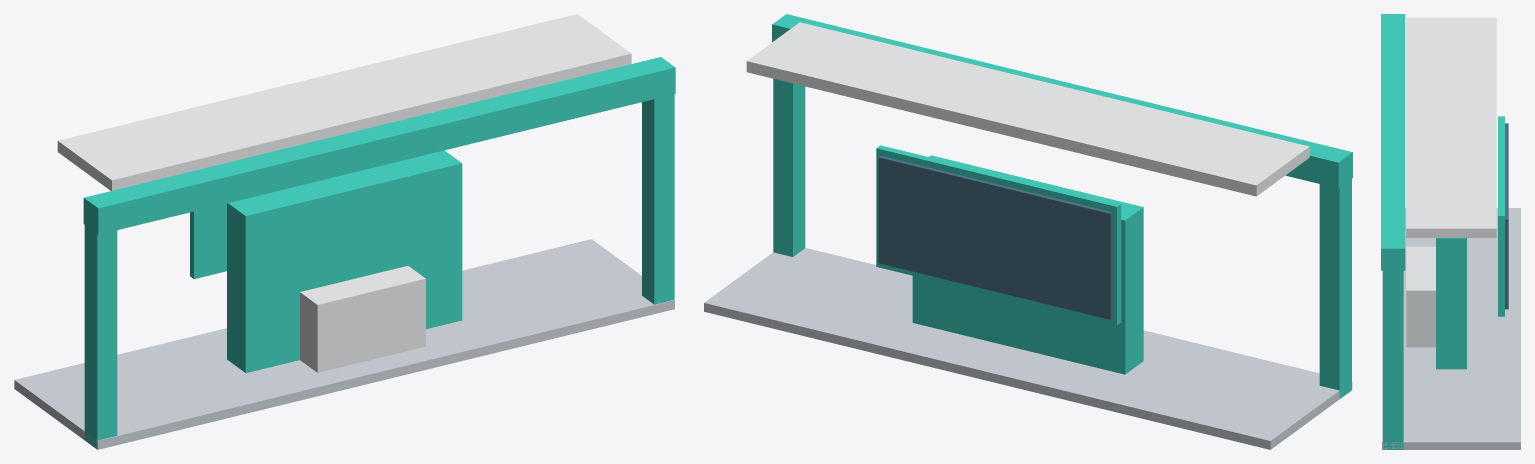
The picture shows the model from 3 angles, left to right: view 1: azimuth 30°, elevation 25°; view 2: azimuth 150°, elevation 25°; view 3: azimuth 270°, elevation 25°; orthographic projection. The views are drawn at different scales.
Parts seen in each view (by area): view 1: Exhibition Booth Concept; view 2: Exhibition Booth Concept; view 3: Exhibition Booth Concept.
Boxes of the visible parts, box(x1,y1,x2,y2) form: Exhibition Booth Concept: box(14, 14, 675, 449); Exhibition Booth Concept: box(704, 14, 1352, 449); Exhibition Booth Concept: box(1381, 14, 1520, 449).
Size of the model in its own units: 8 by 3.34 by 2.01.
